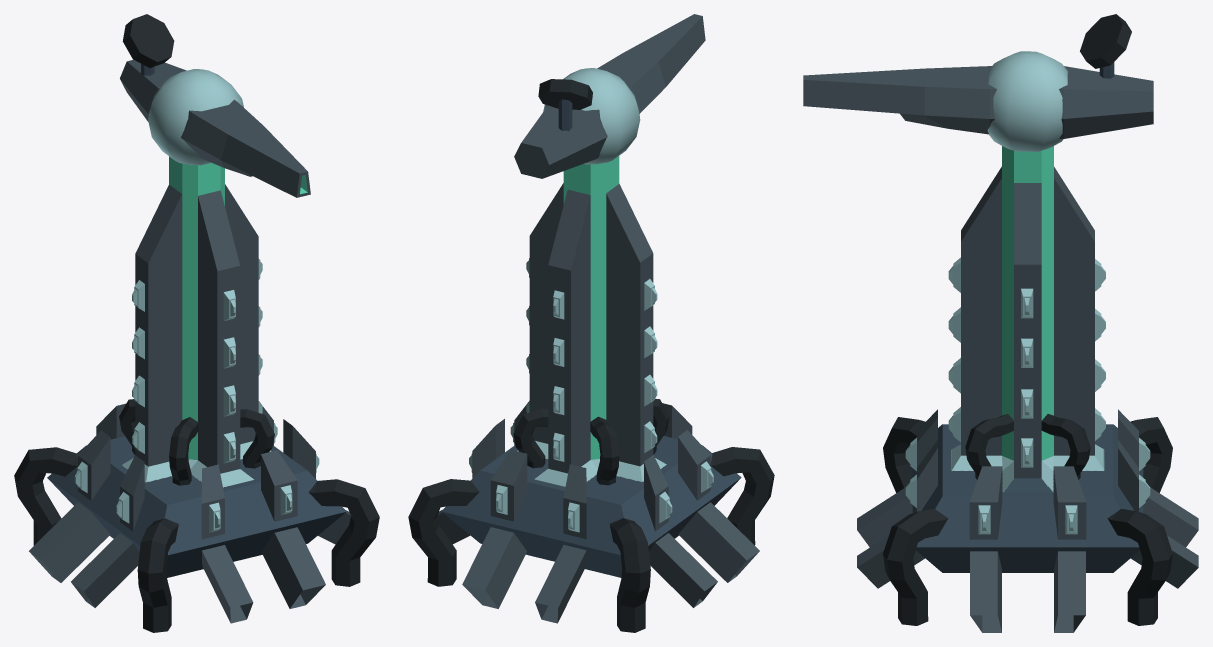
Rendered from Security Tower.fbx.
3 views of the same model, side by side, from view 1: azimuth 30°, elevation 25°; view 2: azimuth 150°, elevation 25°; view 3: azimuth 270°, elevation 25° (orthographic). The views are drawn at different scales.
Parts seen in each view (by area): view 1: Tower, Gun; view 2: Tower, Gun; view 3: Tower, Gun.
Boxes of the visible parts, <box> form: Tower: <box>14,156,379,632</box>; Gun: <box>120,14,310,197</box>; Tower: <box>408,156,774,632</box>; Gun: <box>514,14,705,178</box>; Tower: <box>857,146,1198,632</box>; Gun: <box>803,14,1153,151</box>.
Bounding box in the file's own units: 808 × 936 × 1426.
